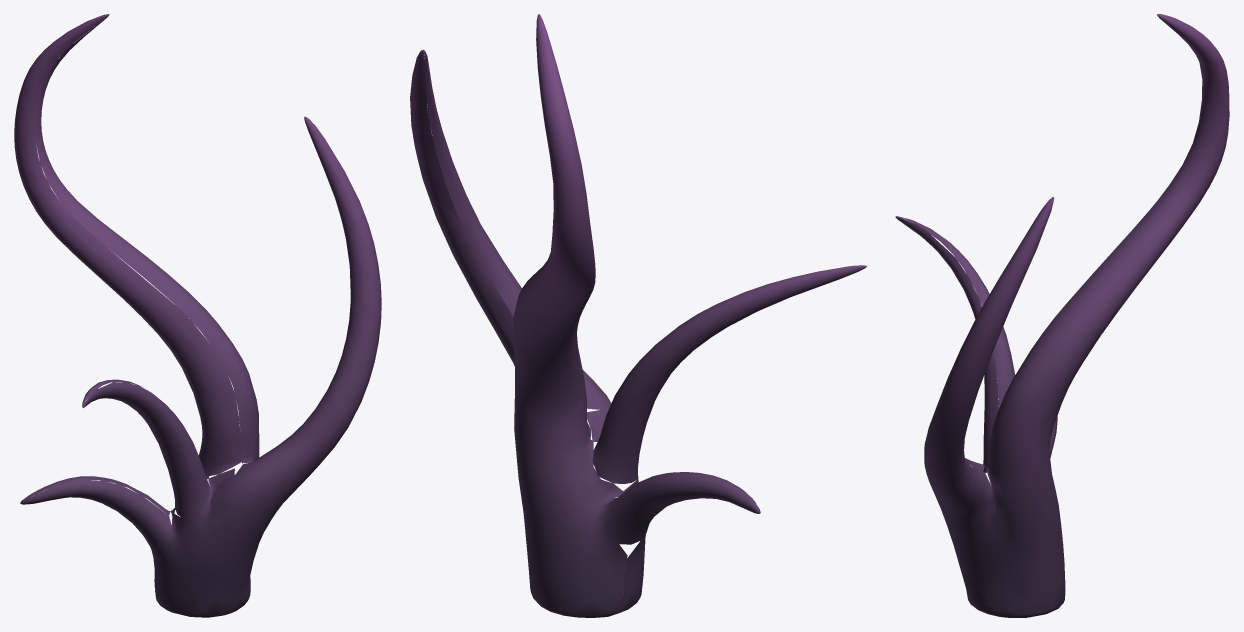
The model's file is lb_tentacle_b.glb.
3 renders of one model, left to right at view 1: azimuth 30°, elevation 25°; view 2: azimuth 150°, elevation 25°; view 3: azimuth 270°, elevation 25°, orthographic. The views are drawn at different scales.
Parts seen in each view (by area): view 1: geometry_0; view 2: geometry_0; view 3: geometry_0.
Boxes of the visible parts, left/top/right/bottom form: geometry_0: left=14, top=14, right=381, bottom=617; geometry_0: left=410, top=14, right=866, bottom=617; geometry_0: left=895, top=14, right=1229, bottom=617.
Size of the model in its own units: 24.48 by 38.19 by 20.17.
